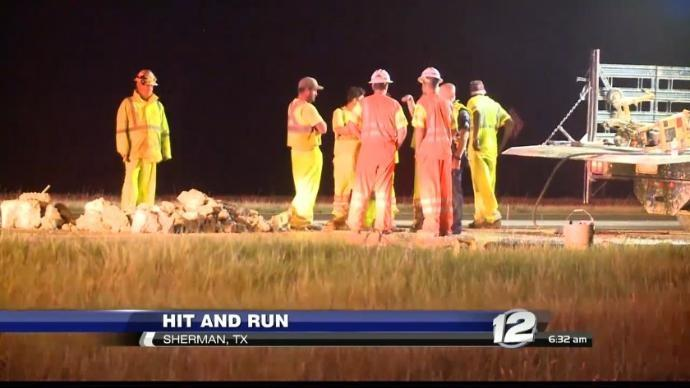Vest: (124, 94, 164, 162), (285, 101, 323, 153)
